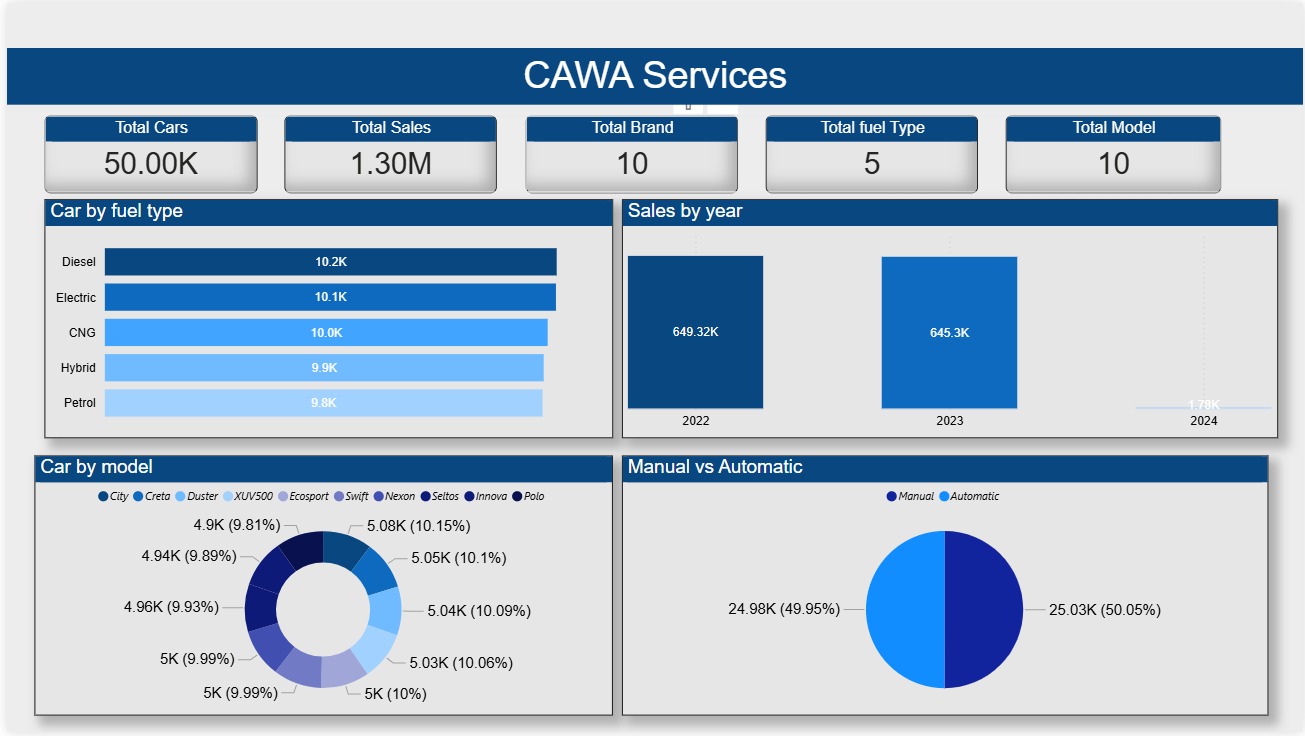

Layout of this report page (visuals, bound fields, positions):
{"tool":"powerbi","page":{"name":"Page 1","canvas":[1280,720],"ordinal":0},"visuals":[{"type":"card","title":"Total Cars","fields":{"Values":["Count(MASTER_CAR_DATA.Car_ID)"]},"box":[37,111.2,210,76.7],"z":0,"group":"g1"},{"type":"card","title":"Total Sales","fields":{"Values":["Sum(MASTER_CAR_DATA.Sale_Price_Lakh)"]},"box":[274.4,111.1,209.9,76.8],"z":1000,"group":"g1"},{"type":"card","title":"Total Brand","fields":{"Values":["Count(MASTER_CAR_DATA.Brand)"]},"box":[511.8,111.1,209.9,76.8],"z":2000,"group":"g1"},{"type":"card","title":"Total fuel Type","fields":{"Values":["Count(MASTER_CAR_DATA.Fuel_Type)"]},"box":[749.2,111.1,209.9,76.8],"z":3000,"group":"g1"},{"type":"card","title":"Total Model","fields":{"Values":["Count(MASTER_CAR_DATA.Model)"]},"box":[986.8,111.3,212.7,76.8],"z":4000,"group":"g1"},{"type":"barChart","title":"Car by fuel type","fields":{"Category":["MASTER_CAR_DATA.Fuel_Type"],"Y":["Count(MASTER_CAR_DATA.Car_ID)"]},"box":[37,193.5,561.2,236],"z":5000},{"type":"columnChart","title":"Sales by year","fields":{"Y":["Sum(MASTER_CAR_DATA.Sale_Price_Lakh)"],"Category":["MASTER_CAR_DATA.Sale_Date.Variation.Date Hierarchy.Year"]},"box":[607.9,193.5,647.7,236],"z":6000},{"type":"donutChart","title":"Car by model","fields":{"Category":["MASTER_CAR_DATA.Model"],"Y":["Count(MASTER_CAR_DATA.Car_ID)"]},"box":[27.4,447.3,570.8,256.6],"z":7000},{"type":"pieChart","title":"Manual vs Automatic","fields":{"Category":["MASTER_CAR_DATA.Transmission"],"Y":["Count(MASTER_CAR_DATA.Car_ID)"]},"box":[607.9,447.3,638.1,256.6],"z":8000},{"type":"group","id":"g1","title":"Group 1","box":[37,111.1,1162.3,76.8],"z":8001},{"type":"textbox","box":[0,43.9,1280.3,56.3],"z":8002}]}

Visuals, with their boxes in screenshot pixels (x1, y1, x2, y2), scaled from the page's 1280x720 canvas onto the 1305x736 screenshot:
"Total Cars" card: [x1=38, y1=114, x2=252, y2=192]
"Total Sales" card: [x1=280, y1=114, x2=494, y2=192]
"Total Brand" card: [x1=522, y1=114, x2=736, y2=192]
"Total fuel Type" card: [x1=764, y1=114, x2=978, y2=192]
"Total Model" card: [x1=1006, y1=114, x2=1223, y2=192]
"Car by fuel type" barChart: [x1=38, y1=198, x2=610, y2=439]
"Sales by year" columnChart: [x1=620, y1=198, x2=1280, y2=439]
"Car by model" donutChart: [x1=28, y1=457, x2=610, y2=720]
"Manual vs Automatic" pieChart: [x1=620, y1=457, x2=1270, y2=720]
"Group 1" group: [x1=38, y1=114, x2=1223, y2=192]
textbox: [x1=0, y1=45, x2=1304, y2=102]
